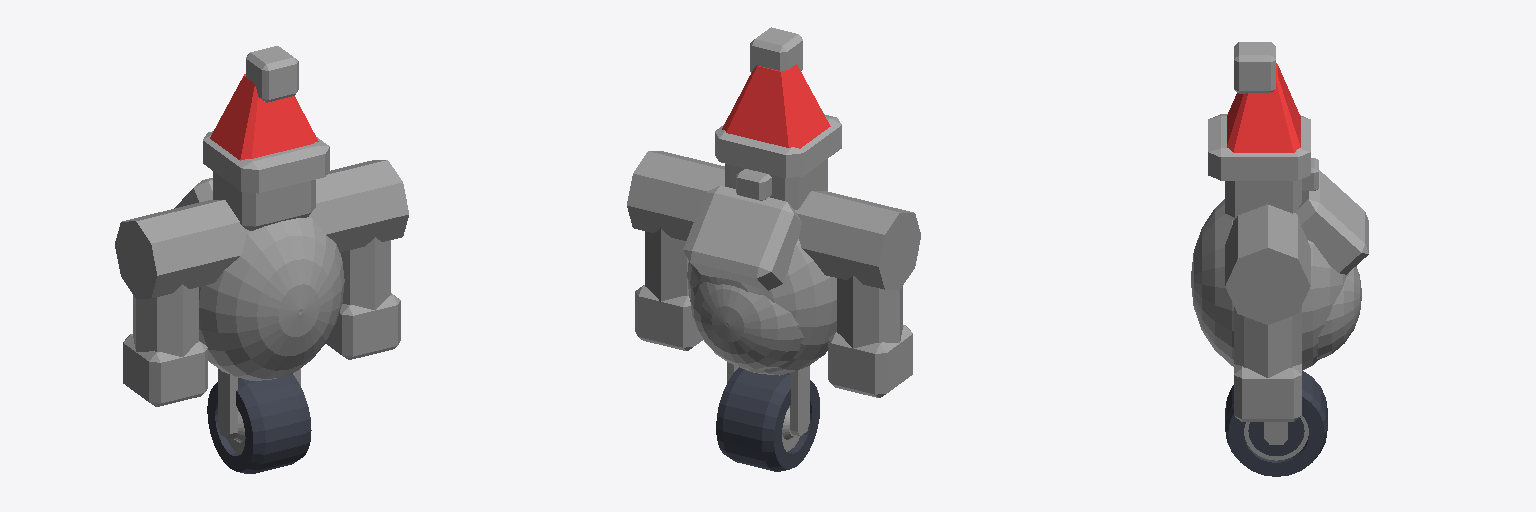
File: santa.obj
3 renders of one model, left to right at view 1: azimuth 30°, elevation 25°; view 2: azimuth 150°, elevation 25°; view 3: azimuth 270°, elevation 25°, orthographic.
Parts seen in each view (by area): view 1: sphere_full_8, cylinder_vertex_17, wheel_large_13, plane_cockpitNose%_2, block_rounded_3, block_rounded_19, cylinder_vertex_9, block_rounded_20, block_rounded_0, cylinder_vertex_11, block_rounded_5, guard_15 (+1 smaller); view 2: cylinder_vertex_17, block_rounded_7, wheel_large_13, sphere_full_18, plane_cockpitNose%_2, sphere_full_8, block_rounded_19, block_rounded_3, cylinder_vertex_9, block_rounded_20, cylinder_vertex_11, block_rounded_5 (+3 smaller); view 3: cylinder_vertex_17, sphere_full_8, wheel_large_13, block_rounded_7, plane_cockpitNose%_2, block_rounded_3, cylinder_vertex_11, block_rounded_20, block_rounded_0, block_rounded_5, sphere_full_18.
Boxes of the visible parts, x1,y1,x2,y2 form: sphere_full_8: [199, 217, 344, 380]; cylinder_vertex_17: [115, 160, 408, 298]; wheel_large_13: [207, 373, 311, 473]; plane_cockpitNose%_2: [210, 74, 318, 160]; block_rounded_3: [203, 131, 329, 193]; block_rounded_19: [123, 334, 207, 406]; cylinder_vertex_9: [133, 284, 198, 356]; block_rounded_20: [326, 293, 400, 359]; block_rounded_0: [213, 171, 315, 230]; cylinder_vertex_11: [340, 237, 390, 310]; block_rounded_5: [246, 46, 298, 102]; guard_15: [218, 369, 237, 438]; cylinder_vertex_17: [627, 151, 920, 289]; block_rounded_7: [683, 185, 801, 290]; wheel_large_13: [716, 367, 819, 471]; sphere_full_18: [690, 282, 803, 369]; plane_cockpitNose%_2: [722, 64, 830, 148]; sphere_full_8: [687, 239, 836, 375]; block_rounded_19: [828, 325, 912, 397]; block_rounded_3: [715, 114, 841, 177]; cylinder_vertex_9: [837, 276, 902, 348]; block_rounded_20: [635, 285, 702, 350]; cylinder_vertex_11: [645, 228, 688, 301]; block_rounded_5: [750, 27, 802, 72]; cylinder_vertex_17: [1225, 204, 1310, 324]; sphere_full_8: [1191, 199, 1348, 370]; wheel_large_13: [1225, 371, 1327, 476]; block_rounded_7: [1296, 170, 1368, 274]; plane_cockpitNose%_2: [1227, 63, 1300, 152]; block_rounded_3: [1208, 114, 1310, 180]; cylinder_vertex_11: [1234, 307, 1301, 377]; block_rounded_20: [1234, 364, 1301, 421]; block_rounded_0: [1225, 179, 1301, 220]; block_rounded_5: [1234, 42, 1275, 93]; sphere_full_18: [1316, 266, 1361, 359].
Size of the model in its own units: 3.4 by 5.4 by 2.08.